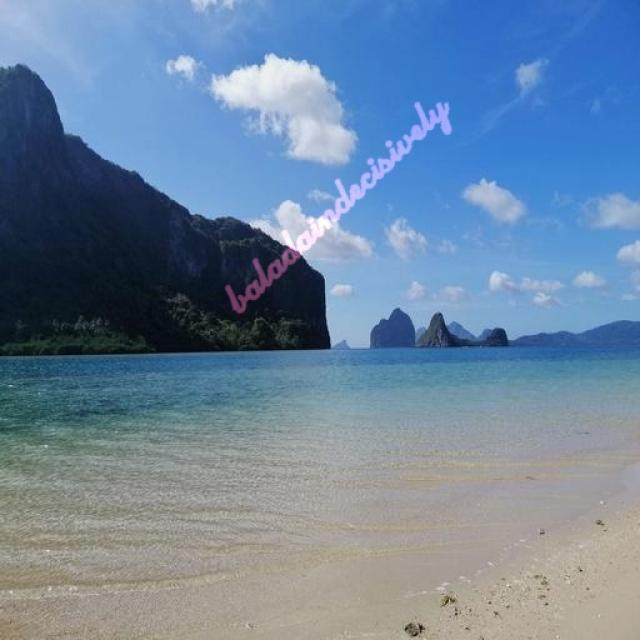watermark: (229, 78, 451, 319)
